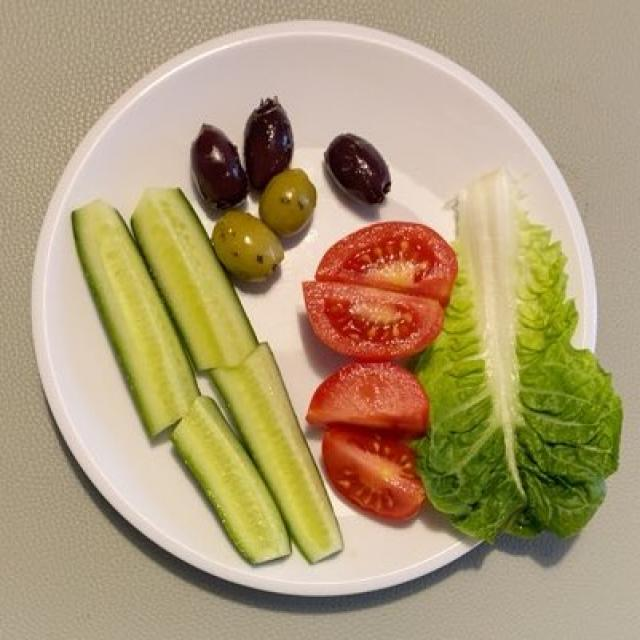black-olives: (186, 94, 394, 285)
cucumber: (90, 194, 328, 543)
salad-leaf-salad-green: (421, 185, 607, 540)
tomato-raw: (294, 230, 458, 520)
